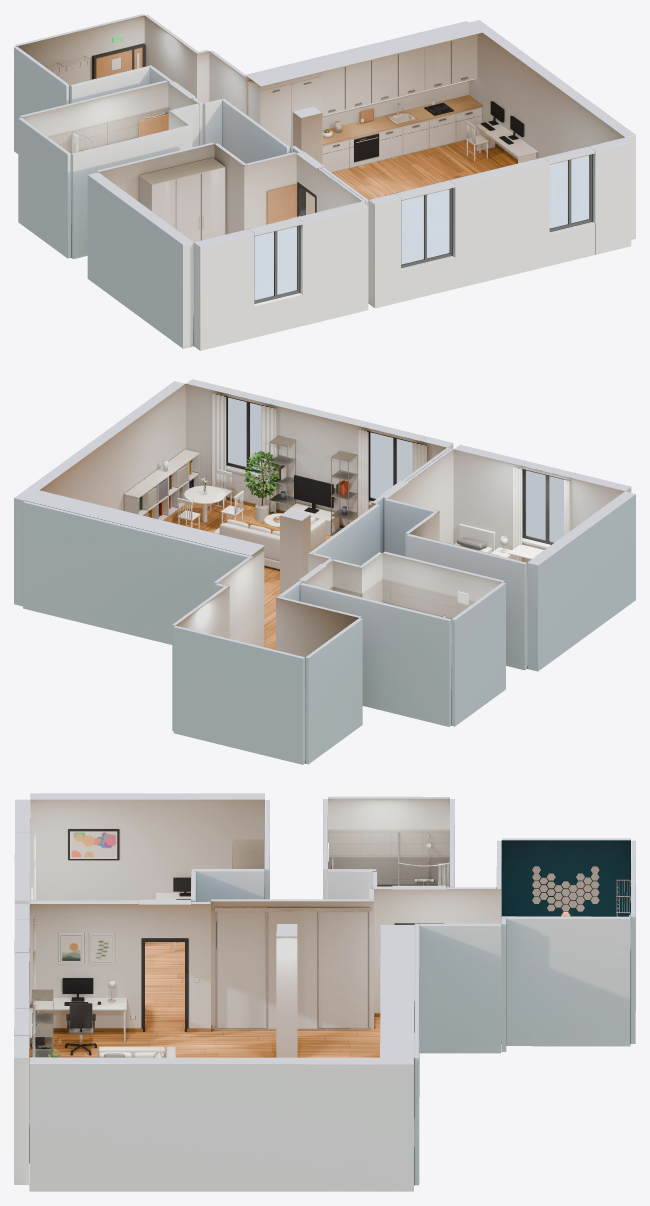
Rendered from flat_baked_no_ceiling_table2_wishcap.glb.
The picture shows the model from 3 angles, top to bottom: view 1: azimuth 30°, elevation 25°; view 2: azimuth 150°, elevation 25°; view 3: azimuth 270°, elevation 25°; orthographic projection. The views are drawn at different scales.
Parts seen in each view (by area): view 1: zapec_telo_0, zapec_zdi_1, zapec_nabytek_6, zapec_podlahy_2, sklo_okno_67, sklo_okno_111, zapec_nabytek_7, sklo_okno_74; view 2: zapec_telo_0, zapec_zdi_1, zapec_nabytek_6, zapec_zaclony_5, zapec_podlahy_2, sklo_okno_111, sklo_okno_67, sklo_okno_74, zapec_nabytek_7, zapec_listy_4; view 3: zapec_telo_0, zapec_zdi_1, zapec_nabytek_6, zapec_podlahy_2, zapec_nabytek_7, zapec_zaclony_5.
Boxes of the visible parts, bbox=[...] form: zapec_telo_0: bbox=[14, 14, 635, 350]; zapec_zdi_1: bbox=[17, 15, 624, 345]; zapec_nabytek_6: bbox=[78, 34, 538, 242]; zapec_podlahy_2: bbox=[332, 140, 517, 199]; sklo_okno_67: bbox=[401, 189, 449, 264]; sklo_okno_111: bbox=[254, 226, 296, 300]; zapec_nabytek_7: bbox=[44, 35, 488, 161]; sklo_okno_74: bbox=[549, 155, 589, 228]; zapec_telo_0: bbox=[14, 379, 635, 764]; zapec_zdi_1: bbox=[25, 383, 624, 763]; zapec_nabytek_6: bbox=[123, 435, 543, 646]; zapec_zaclony_5: bbox=[211, 393, 569, 561]; zapec_podlahy_2: bbox=[163, 500, 332, 649]; sklo_okno_111: bbox=[526, 470, 563, 542]; sklo_okno_67: bbox=[370, 432, 412, 498]; sklo_okno_74: bbox=[228, 397, 266, 470]; zapec_nabytek_7: bbox=[162, 460, 445, 617]; zapec_listy_4: bbox=[244, 450, 279, 498]; zapec_telo_0: bbox=[14, 793, 635, 1191]; zapec_zdi_1: bbox=[29, 798, 630, 1184]; zapec_nabytek_6: bbox=[29, 832, 599, 1057]; zapec_podlahy_2: bbox=[30, 942, 380, 1057]; zapec_nabytek_7: bbox=[130, 858, 630, 1043]; zapec_zaclony_5: bbox=[32, 832, 35, 1057].
Bounding box in the file's own units: 12.31 × 2.71 × 11.94.
Materials: 9 (7 with a texture image).
